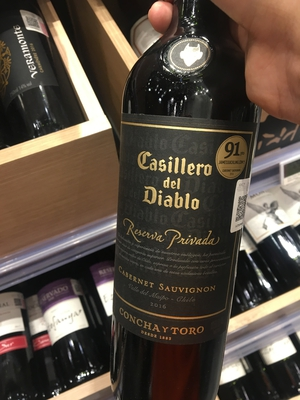casillero del diablo reserva privada cabernet sauvignon: (112, 31, 264, 399)
